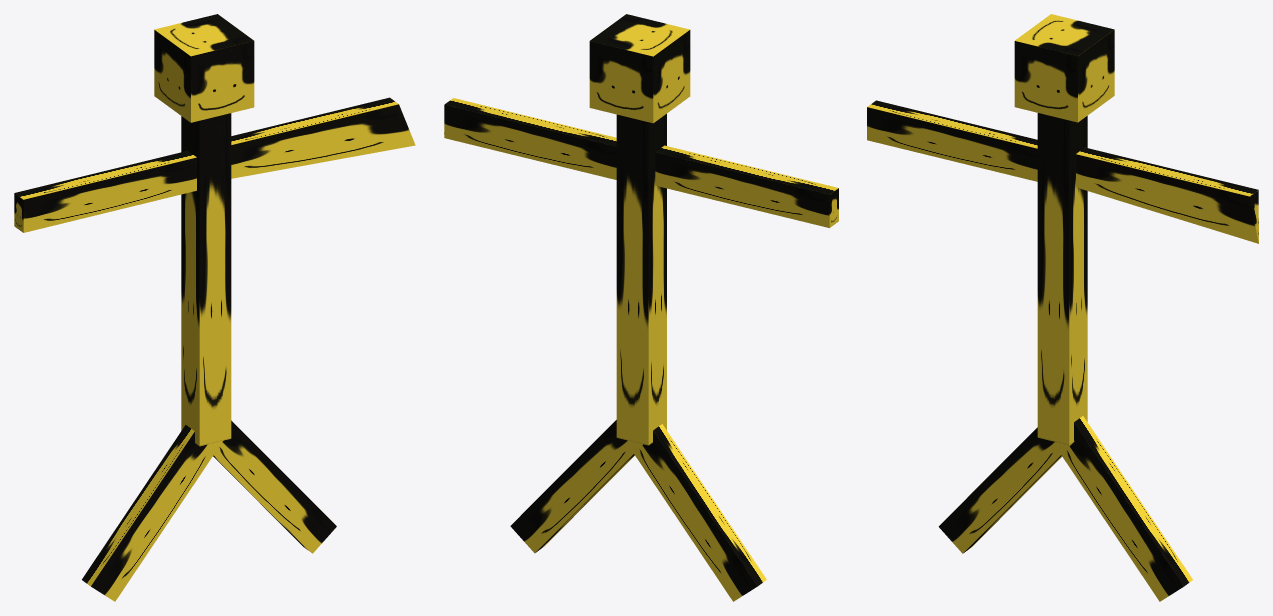
Rendered from practica03.fbx.
3 views of the same model, side by side, from view 1: azimuth 30°, elevation 25°; view 2: azimuth 150°, elevation 25°; view 3: azimuth 330°, elevation 25° (orthographic).
Parts seen in each view (by area): view 1: Cube.001; view 2: Cube.001; view 3: Cube.001.
Part boxes in pixels (bbox=[...]): Cube.001: bbox=[14, 14, 415, 601]; Cube.001: bbox=[444, 14, 838, 601]; Cube.001: bbox=[867, 14, 1258, 601].
Size of the model in its own units: 1235 by 1619 by 200.
